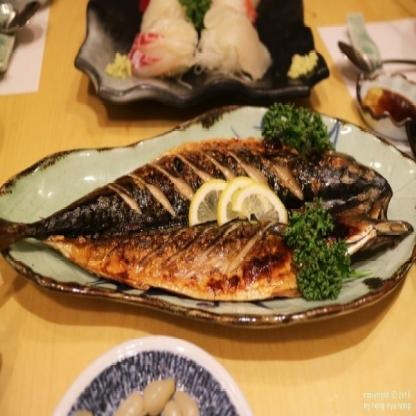Peixe: (2, 136, 416, 301)
